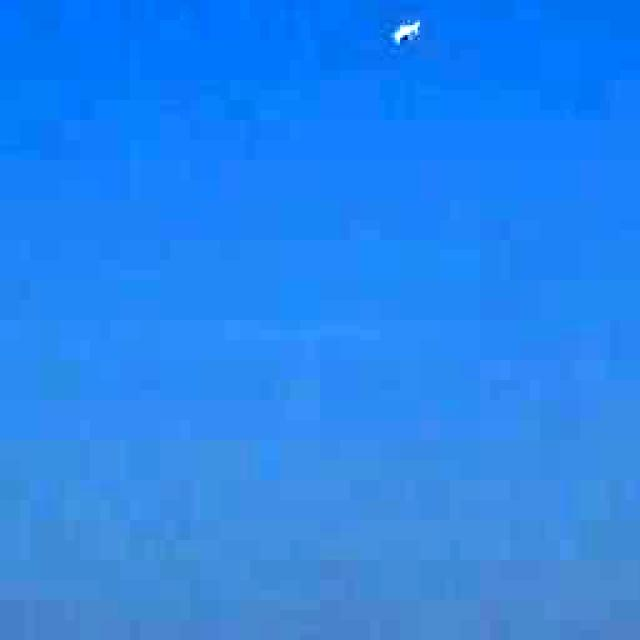bird: (372, 4, 440, 69)
